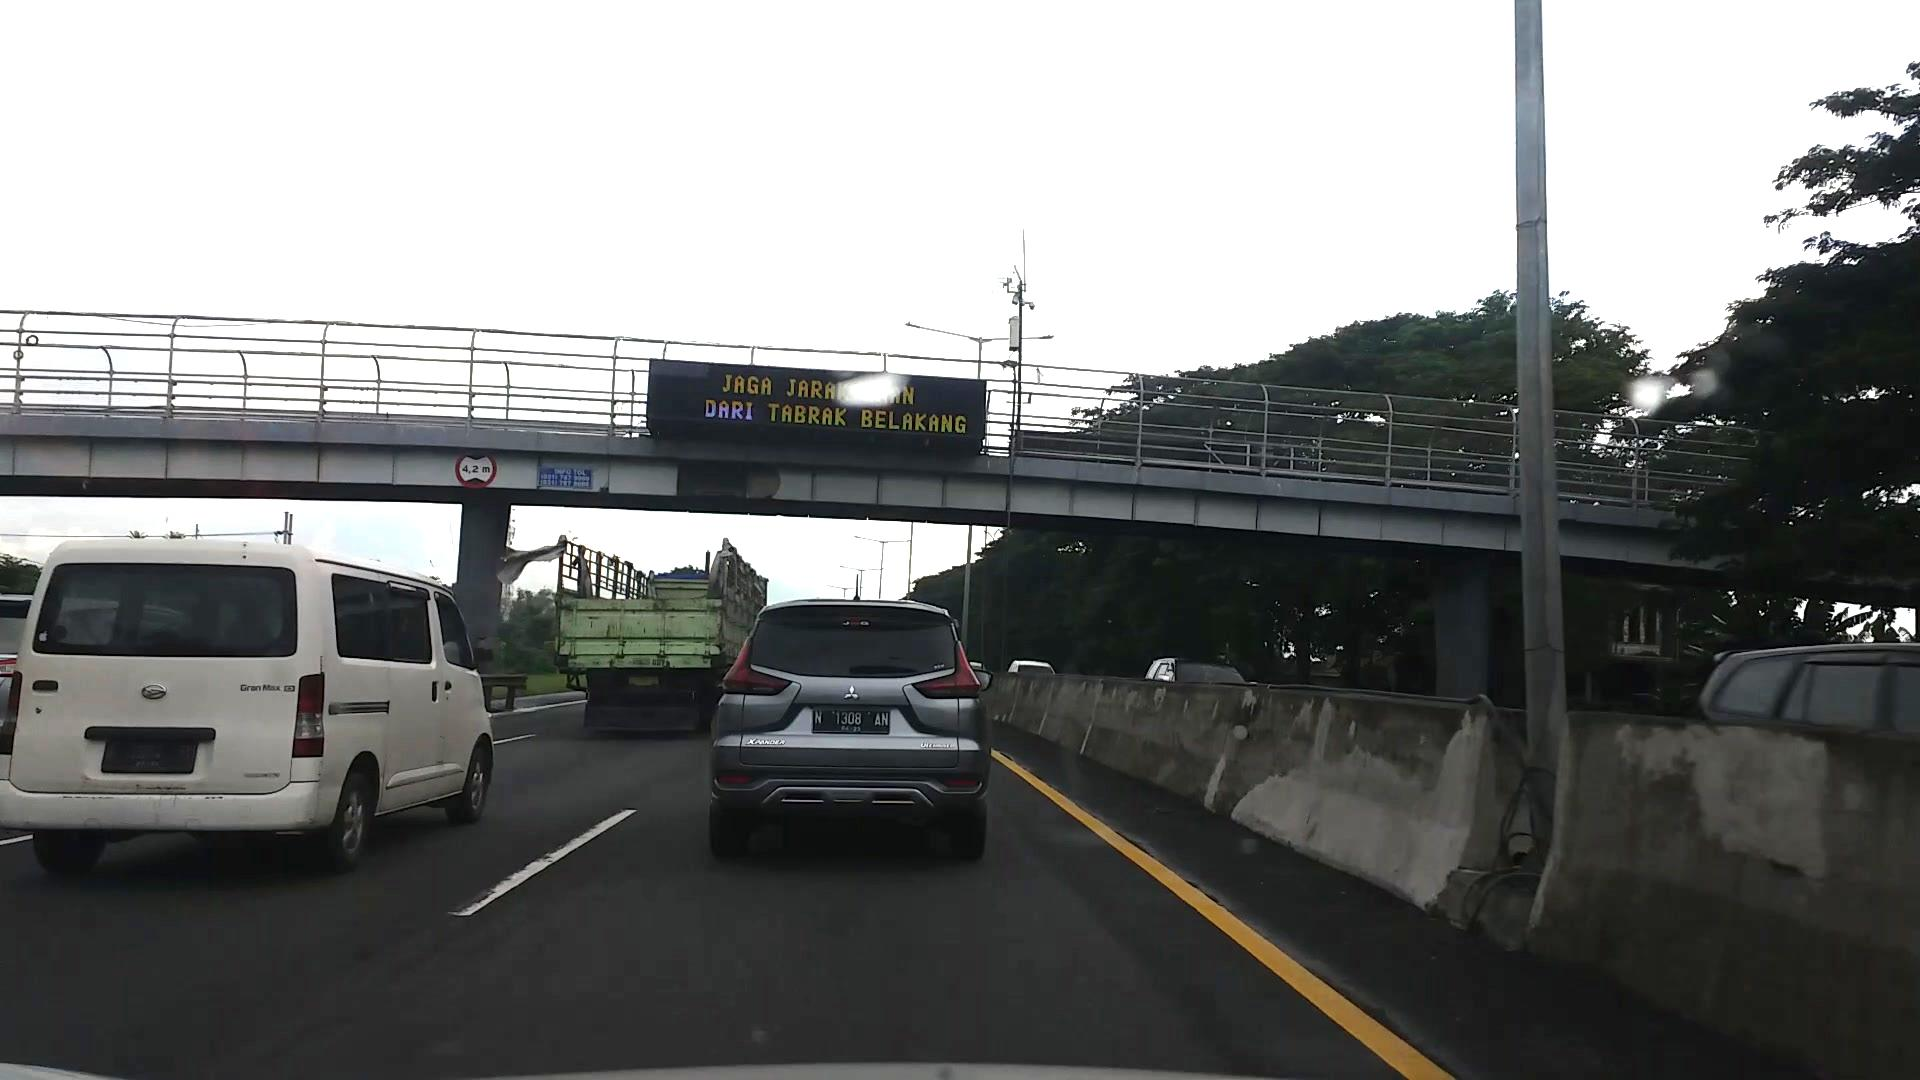plate_positive: (812, 708, 890, 735)
